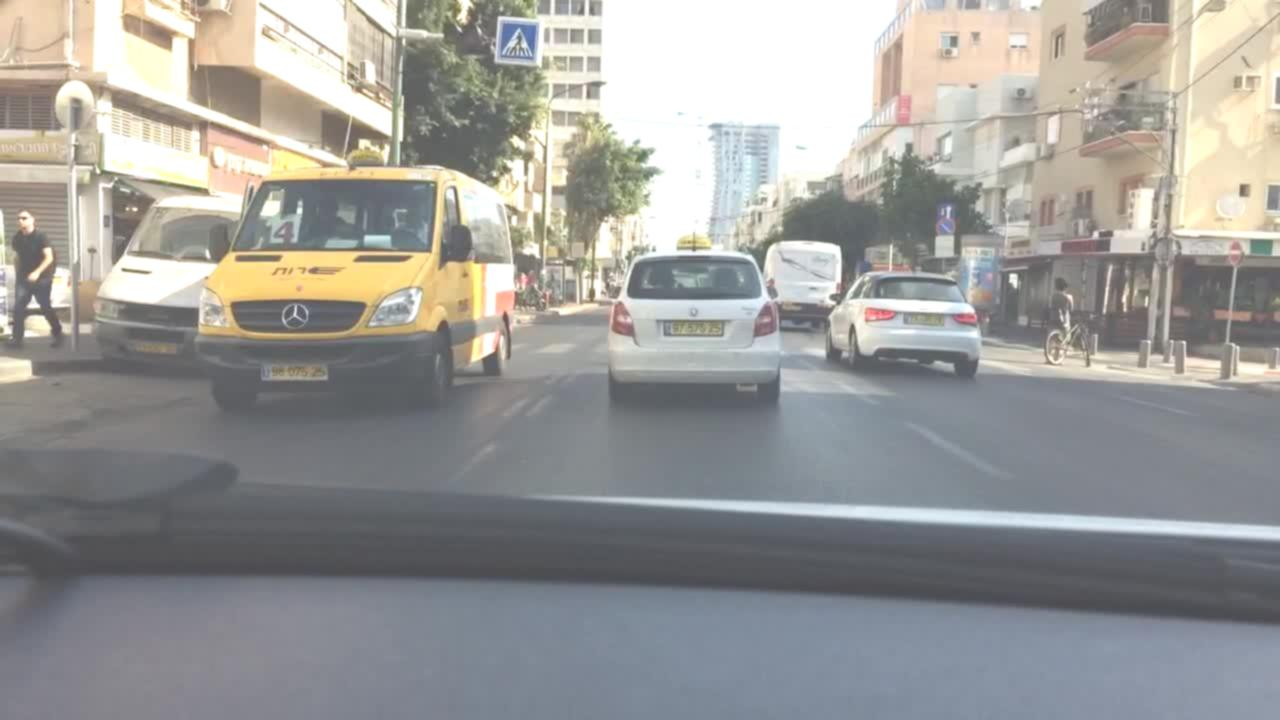Mercedes: (283, 304, 314, 333)
